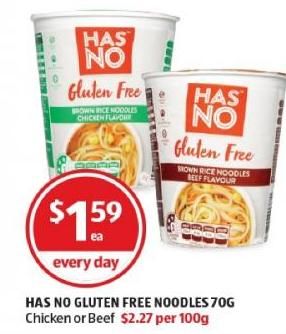description_block: (13, 280, 244, 330)
price_main: (31, 180, 144, 254)
product_image_block: (141, 13, 280, 257)
unit_price_block: (118, 310, 213, 326)
